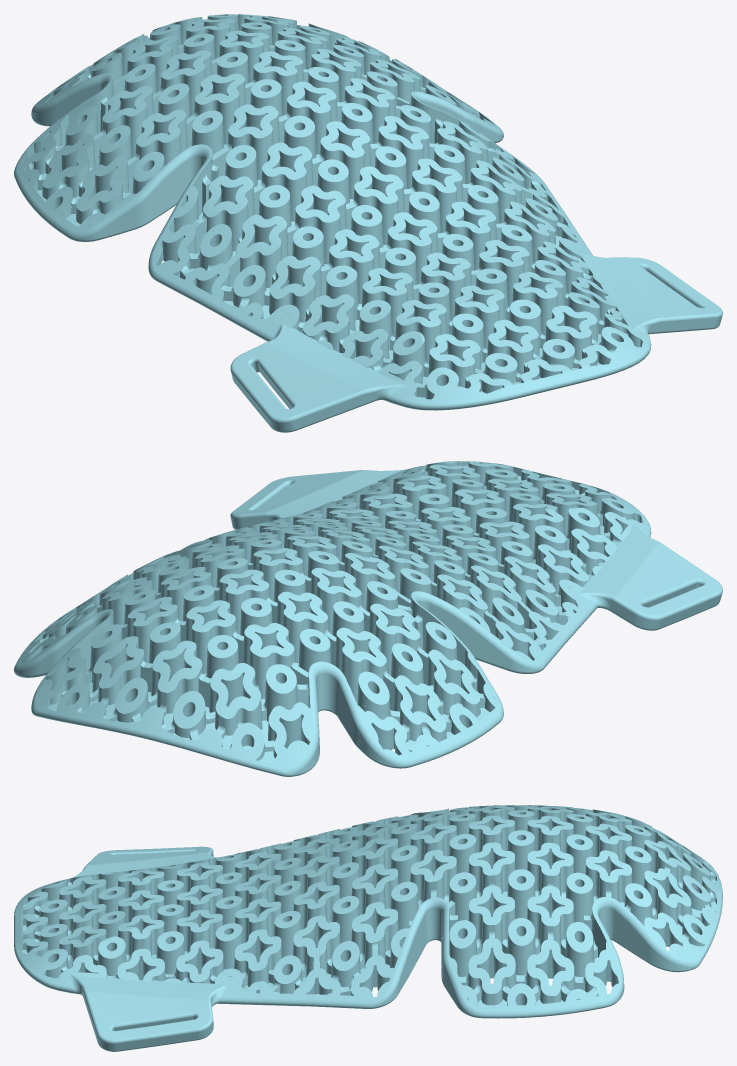
File: liteshield_flex_knee_60c8e4.glb
3 renders of one model, top to bottom at view 1: azimuth 30°, elevation 25°; view 2: azimuth 150°, elevation 25°; view 3: azimuth 270°, elevation 25°, orthographic. The views are drawn at different scales.
Parts seen in each view (by area): view 1: LITESHIELD FLEX_KNEE_v14bbbbbb.SLDPRT; view 2: LITESHIELD FLEX_KNEE_v14bbbbbb.SLDPRT; view 3: LITESHIELD FLEX_KNEE_v14bbbbbb.SLDPRT.
Part boxes in pixels (box(x1,y1,x2,y2)): LITESHIELD FLEX_KNEE_v14bbbbbb.SLDPRT: box(14, 14, 722, 432); LITESHIELD FLEX_KNEE_v14bbbbbb.SLDPRT: box(14, 461, 722, 776); LITESHIELD FLEX_KNEE_v14bbbbbb.SLDPRT: box(14, 805, 722, 1051).
Size of the model in its own units: 0.149 by 0.0492 by 0.2335.
